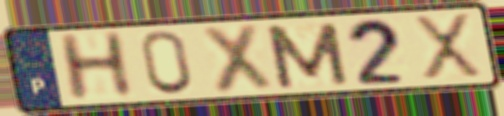0: (139, 29, 196, 97)
2: (344, 13, 416, 91)
H: (53, 29, 139, 104)
M: (261, 20, 353, 91)
X: (198, 21, 277, 96), (410, 11, 486, 81)
